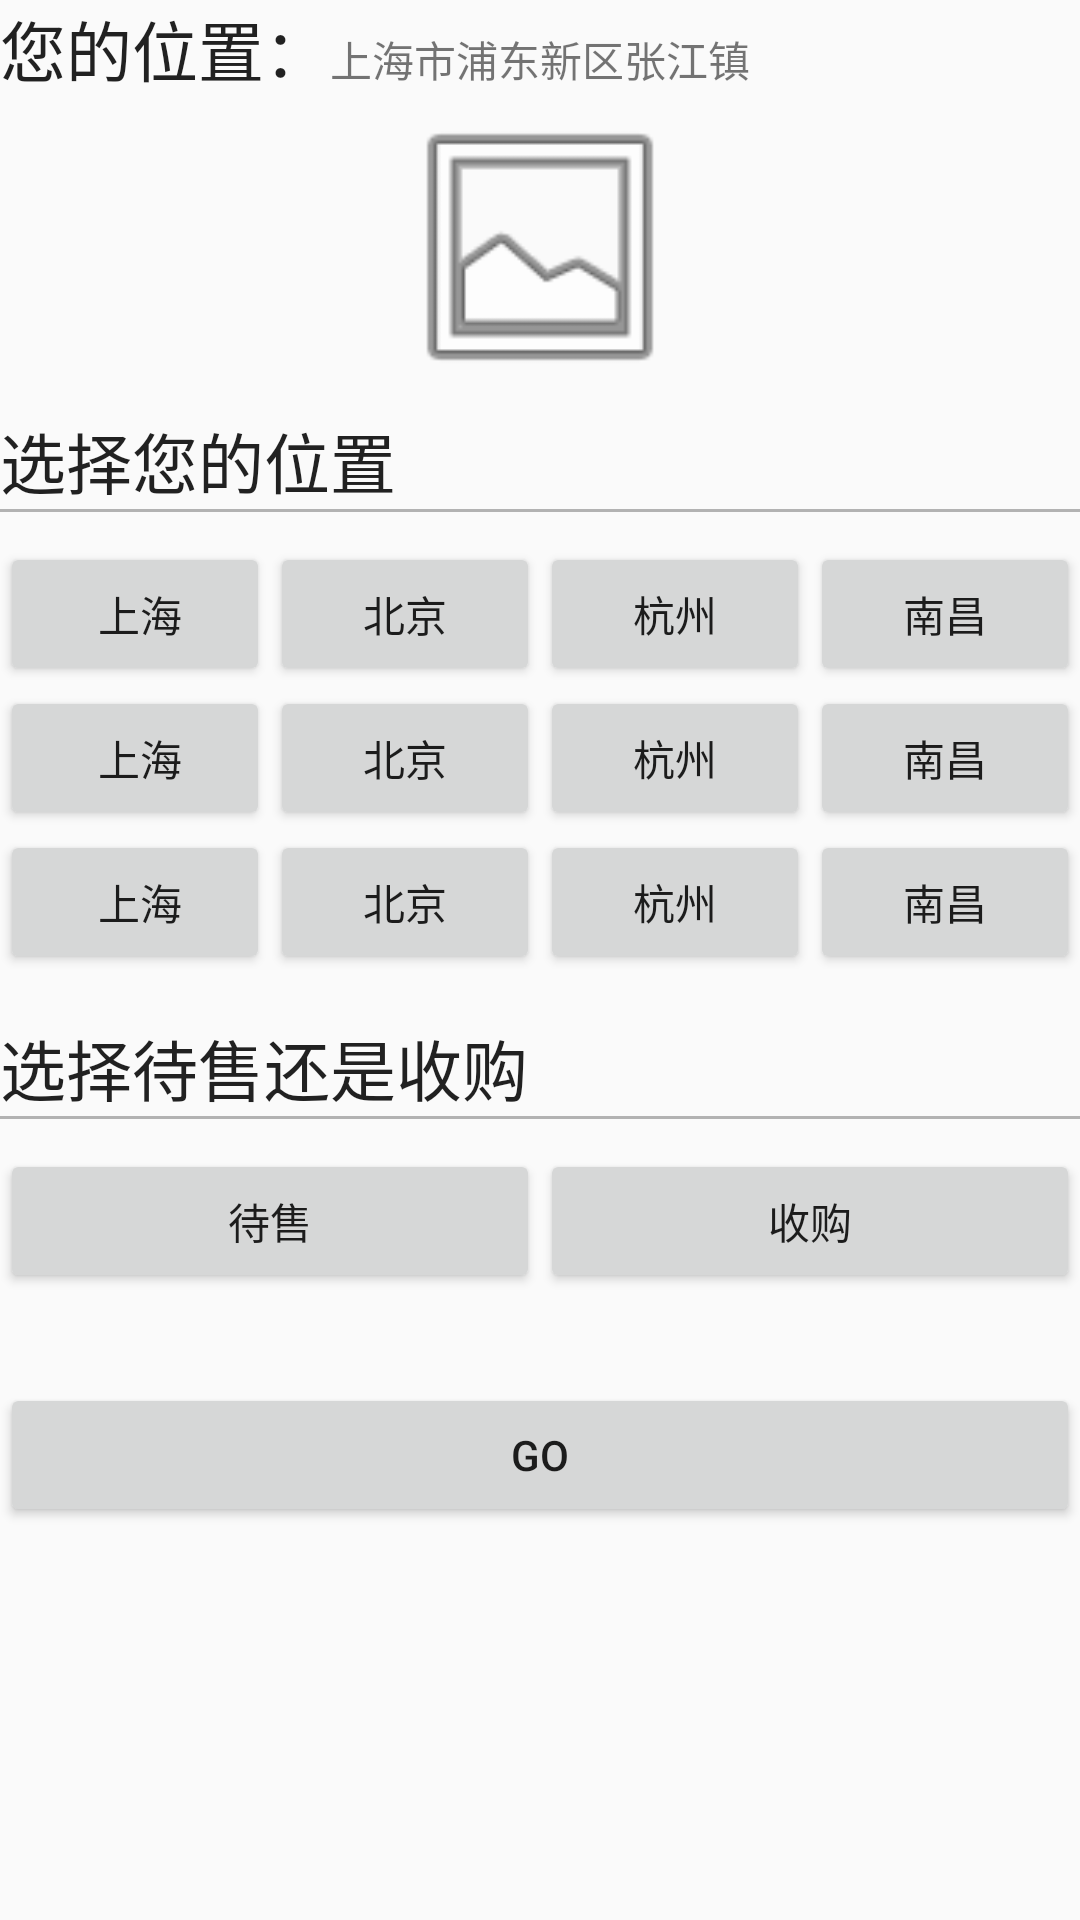

Named icons in this screenshot (1080px×1920px) and their bounding boxes, (x1, y1, x2, y2):
gallery: (427, 134, 653, 360)
